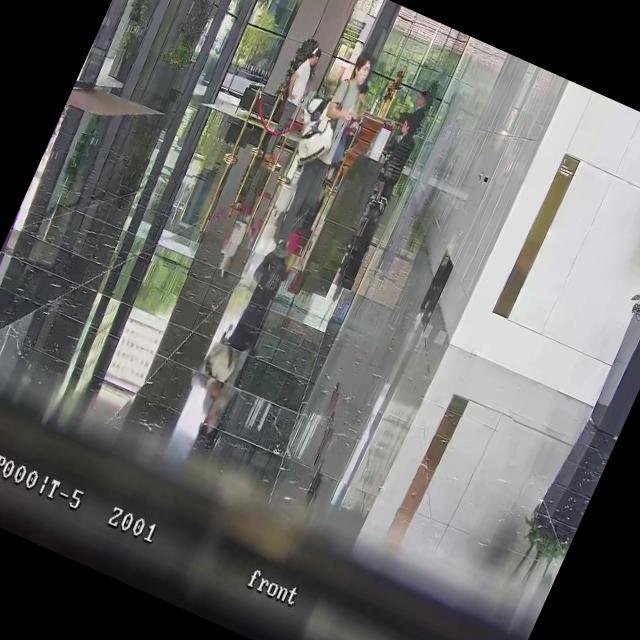person: (266, 47, 388, 258), (254, 42, 326, 168), (320, 84, 374, 188), (378, 115, 420, 182), (392, 84, 432, 138)
